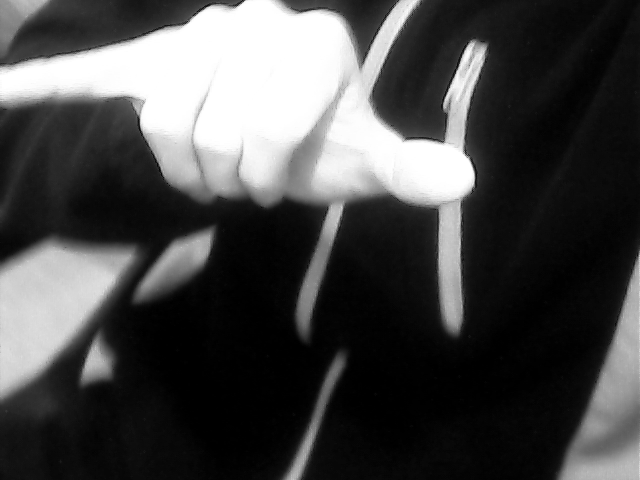aloha: (1, 1, 479, 210)
